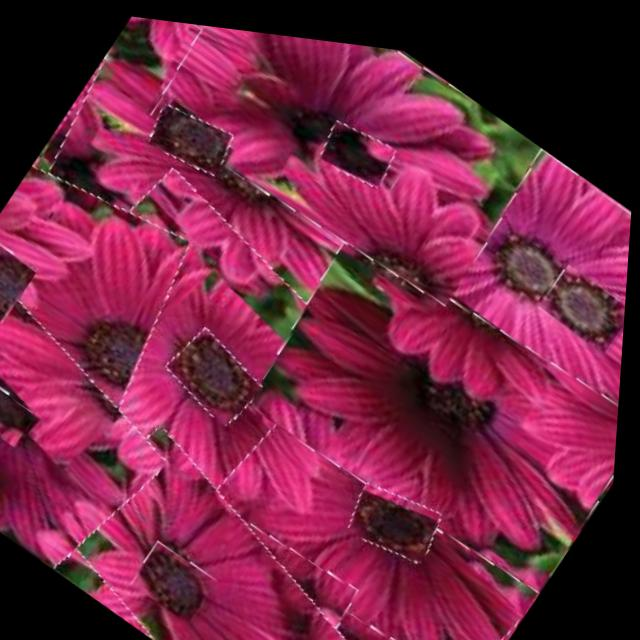Flower: (0, 144, 440, 585), (238, 204, 631, 596), (25, 4, 418, 348), (192, 323, 595, 640), (137, 15, 553, 313), (372, 91, 637, 442), (37, 409, 388, 640), (0, 141, 221, 484), (44, 421, 377, 640), (0, 270, 197, 591), (225, 552, 485, 640), (164, 317, 275, 425), (346, 459, 455, 564), (538, 246, 630, 344), (144, 89, 241, 180), (134, 532, 227, 624), (316, 105, 402, 187), (0, 236, 42, 327), (0, 372, 47, 450)
